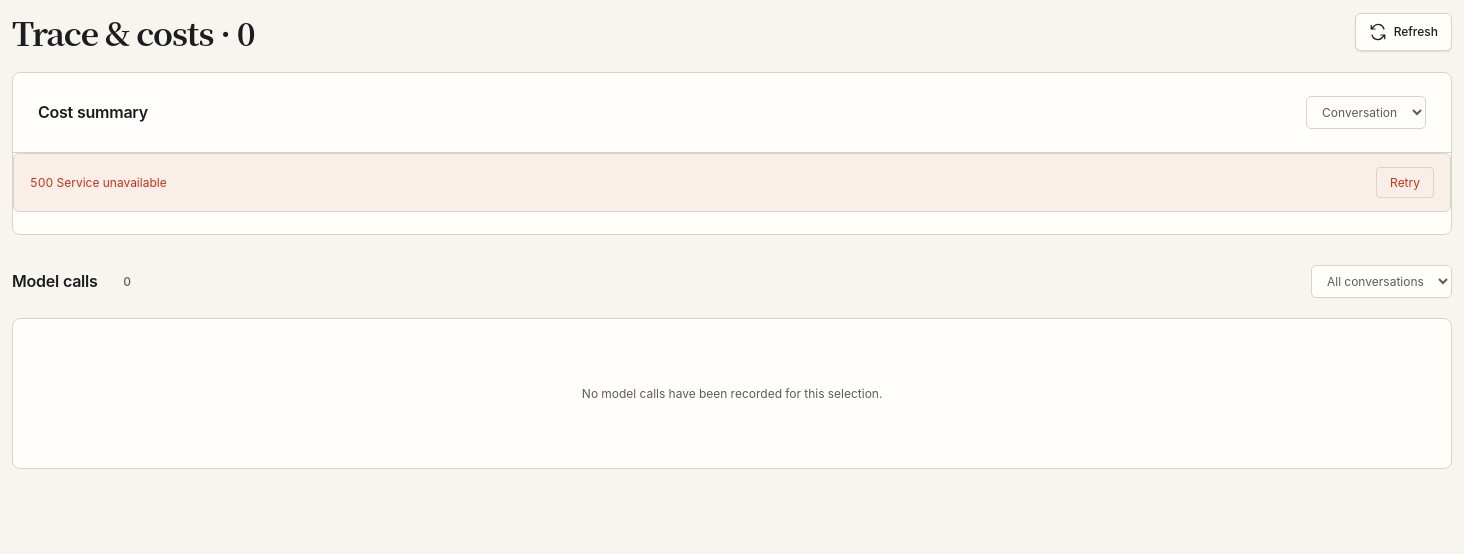
Test: retries a failed /costs read without presenting it as empty
Expected: the message shows "500 Service unavailable", [30, 175, 167, 190]
Expected: the text "No usage has been recorded yet." is not shown
Click the button "Retry" at (1405, 183), box [1376, 167, 1434, 198]
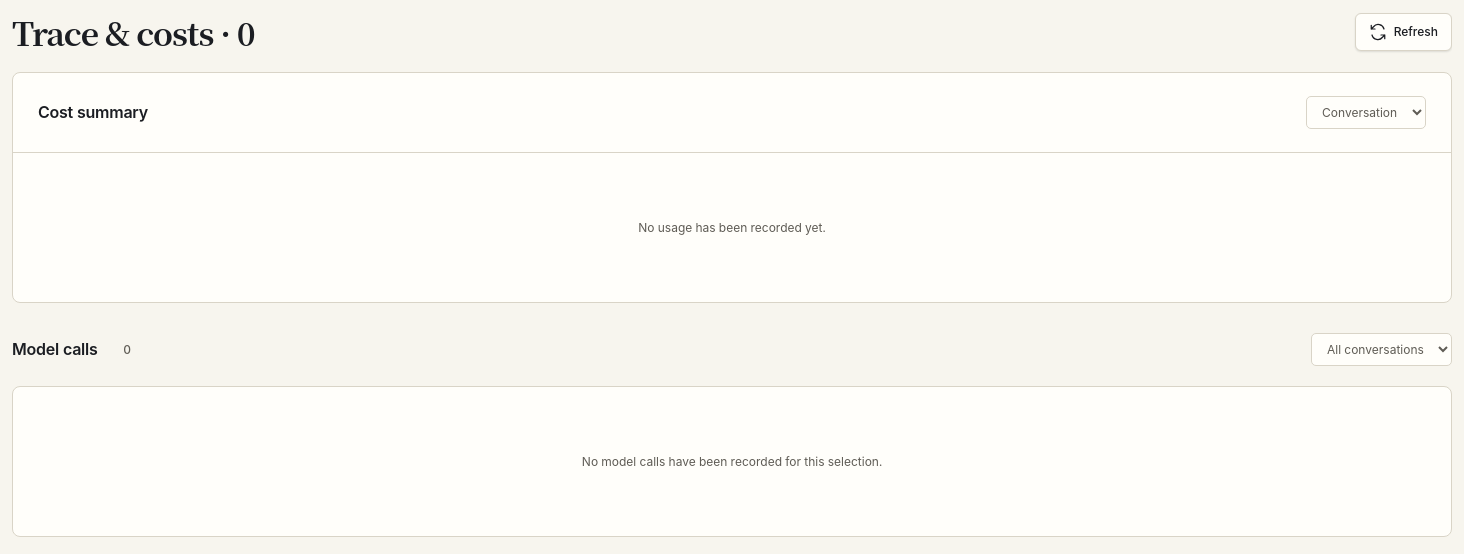
Expected: the text "No usage has been recorded yet." is shown, [638, 218, 826, 237]
Expected: the message "500 Service unavailable Retry" is gone
